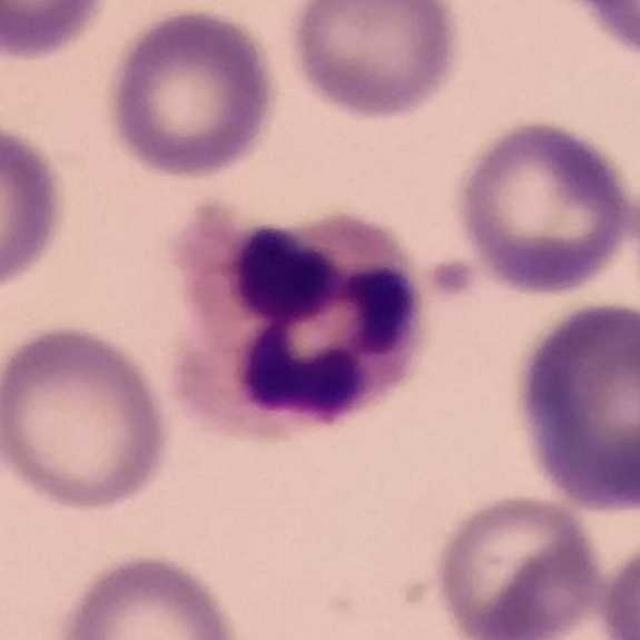Neutrophil: (155, 195, 442, 453)
Platelets: (422, 250, 484, 310)
RBC: (0, 318, 178, 516), (448, 115, 636, 297), (99, 4, 285, 182), (505, 296, 640, 515), (428, 487, 608, 639), (282, 0, 468, 124), (46, 547, 249, 640), (0, 117, 72, 296), (0, 0, 116, 63), (596, 530, 640, 640), (564, 0, 639, 63)
